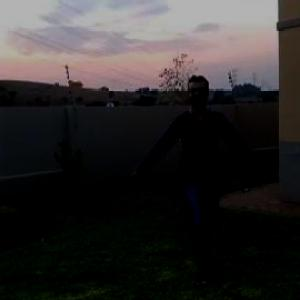land: (146, 82, 260, 281)
